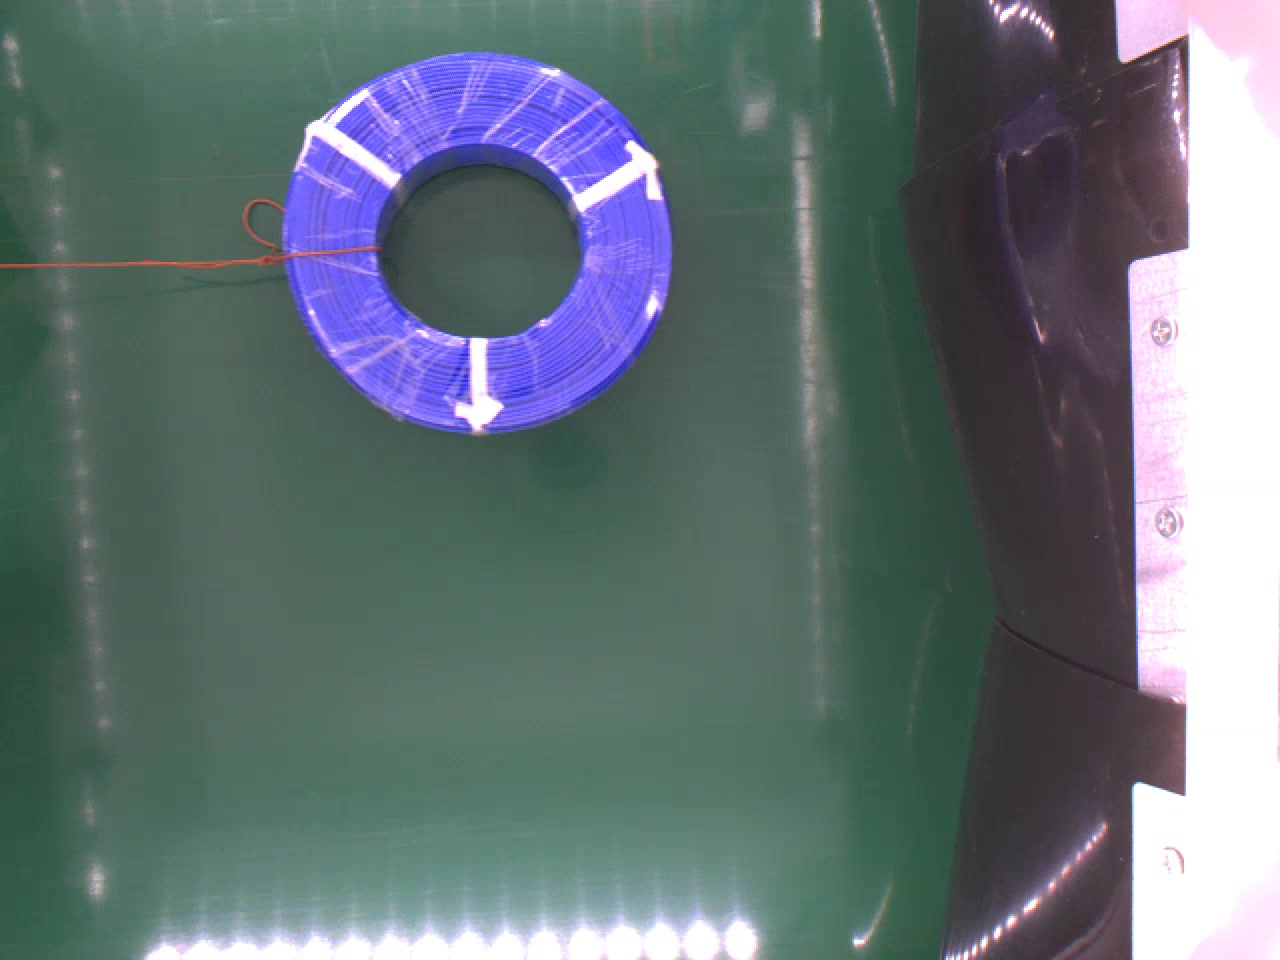blue: (284, 50, 677, 436)
